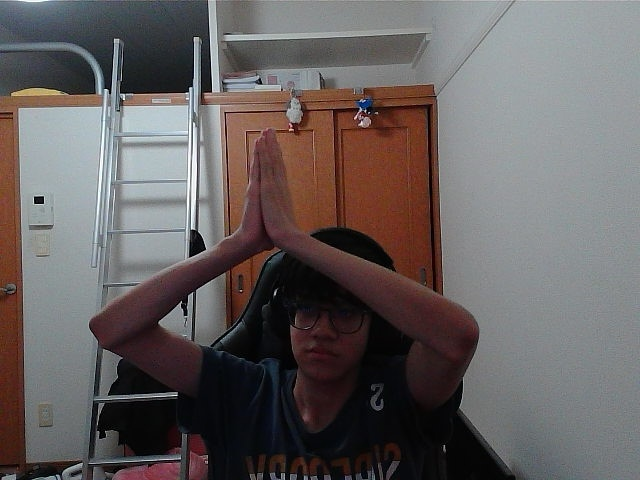pray: (252, 149, 260, 241)
